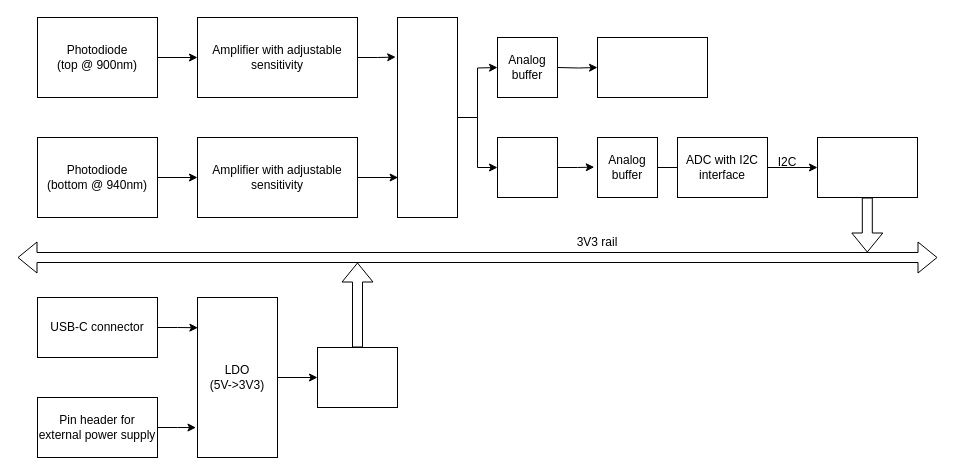
Some shapes in this 954 by 475 pixel diagram are drawn without their labels. Each missing label, with the centre of its shape:
BNC connector for oscilloscope: point (652, 67)
CLC filter: point (357, 377)
QWIIC connector: point (867, 167)
RC filter: point (527, 167)
Selector: point (427, 117)
